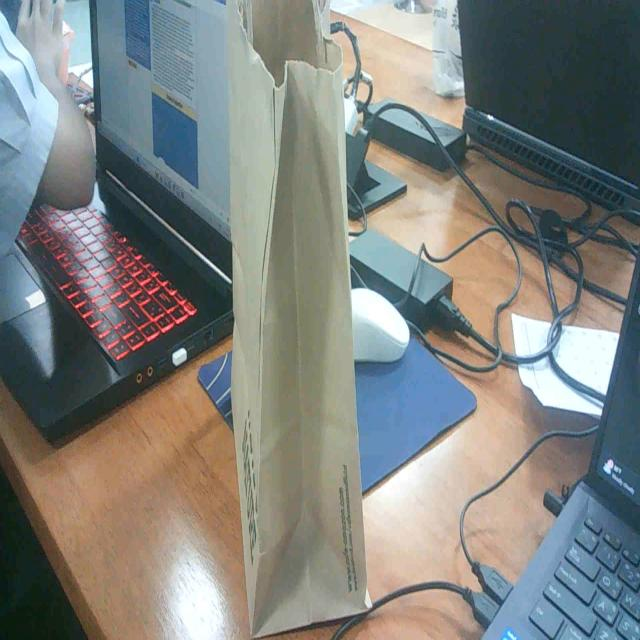bag: (215, 0, 388, 635)
